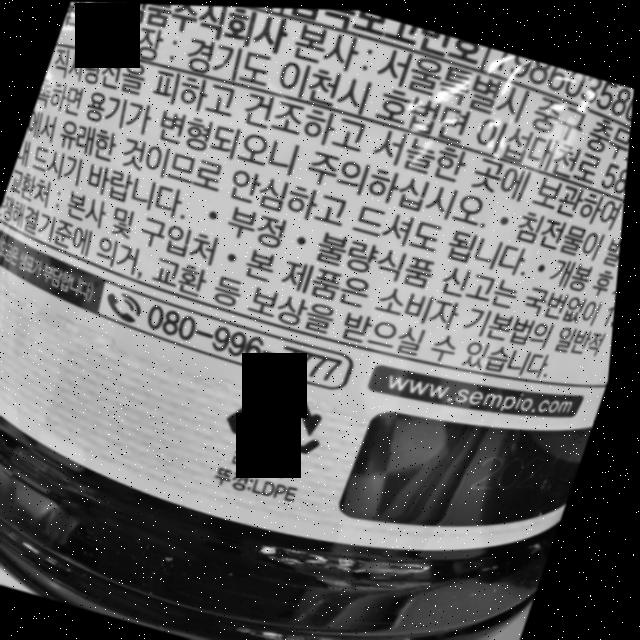PET: (222, 363, 353, 469)
